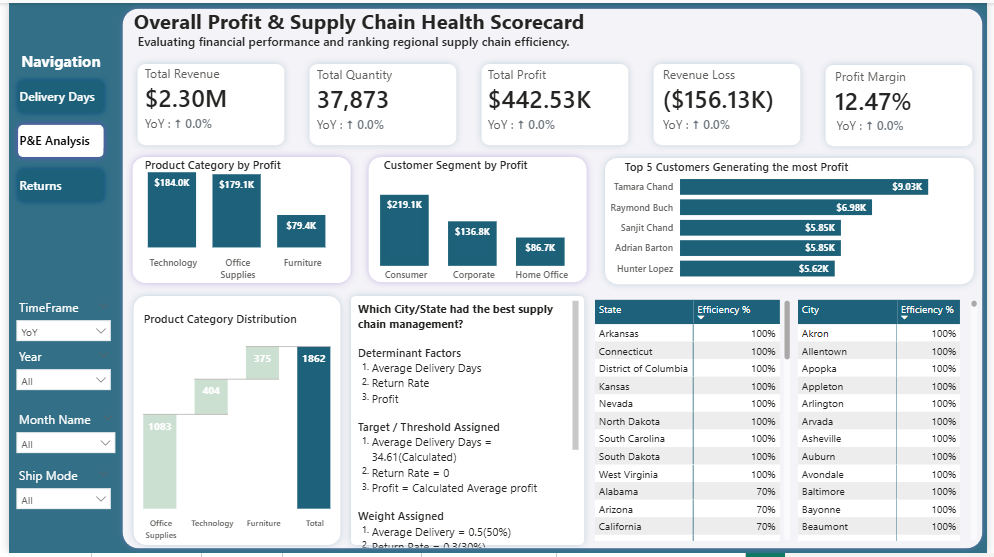

The page's visual inventory and layout, read from the dashboard file:
{"tool":"powerbi","page":{"name":"P&E Analysis","canvas":[1280,720],"ordinal":1},"visuals":[{"type":"shape","box":[142.7,1.3,1137.6,718.7],"z":0},{"type":"shape","box":[149,71,230.3,124.4],"z":0,"group":"g18"},{"type":"shape","box":[374.1,71,230.3,124.4],"z":0,"group":"g13"},{"type":"shape","box":[599.1,71,230.3,124.4],"z":0,"group":"g15"},{"type":"shape","box":[824.2,71,230.3,124.4],"z":0,"group":"g16"},{"type":"shape","box":[1049.2,72.5,230.3,124.4],"z":0,"group":"g17"},{"type":"group","id":"g1","title":"Group 9","box":[135,193,332.4,182.3],"z":0,"group":"g12"},{"type":"group","id":"g2","title":"Group 2","box":[143,193,323.6,183.2],"z":0,"group":"g3"},{"type":"group","id":"g3","title":"Group 6","box":[143,193,324.3,182.3],"z":0,"group":"g1"},{"type":"shape","box":[143,193,323.6,183.2],"z":0,"group":"g2"},{"type":"group","id":"g4","title":"Group 6","box":[451.9,193,323.7,182.1],"z":0,"group":"g10"},{"type":"group","id":"g5","title":"Group 2","box":[451.9,193,323.7,182.1],"z":0,"group":"g4"},{"type":"shape","box":[451.9,193,323.7,182.1],"z":0,"group":"g5"},{"type":"shape","box":[771.1,194.1,500.9,183.3],"z":0,"group":"g14"},{"type":"shape","box":[143.5,374.4,309.1,344.1],"z":0,"group":"g8"},{"type":"shape","box":[439.1,374.4,323.4,344.1],"z":0,"group":"g9"},{"type":"group","id":"g6","title":"Group 13","box":[149,71,1131,150.7],"z":1000},{"type":"group","id":"g7","title":"Group 10","box":[451,193,325.9,182.9],"z":1000,"group":"g12"},{"type":"columnChart","title":"Profit by Product Category","fields":{"Category":["Dim_Products.Category"],"Y":["Dax Measures.Total Profit"]},"box":[135,200,316.9,167],"z":1000,"group":"g1"},{"type":"group","id":"g8","title":"Group 12","box":[130.3,374.4,324.7,344.1],"z":2000},{"type":"group","id":"g9","title":"Group 14","box":[439.1,374.4,323.4,344.1],"z":3000},{"type":"group","id":"g10","title":"Group 1","box":[451.9,193,325,182.9],"z":3500,"group":"g7"},{"type":"group","id":"g11","title":"Group 16","box":[135,193,1137.1,184.4],"z":4000},{"type":"columnChart","fields":{"Category":["Dim_Customers.Segment"],"Y":["Dax Measures.Total Profit"]},"box":[451,203,316.6,166],"z":4000,"group":"g7"},{"type":"slicer","fields":{"Values":["TimeFrame.TimeFrame"]},"box":[0,387.4,138.2,64.8],"z":5000},{"type":"barChart","fields":{"Category":["Dim_Customers.Customer Name"],"Y":["Dax Measures.Total Profit"]},"box":[786,207,452.8,162.4],"z":6000,"group":"g14"},{"type":"pivotTable","fields":{"Rows":["Dim_Locations.City"],"Values":["Dax Measures.Total Health Score"]},"box":[1032.3,384,235.4,324.8],"z":6000},{"type":"pivotTable","fields":{"Rows":["Dim_Locations.State"],"Values":["Dax Measures.Total Health Score"]},"box":[766.6,384,256,324.8],"z":7000},{"type":"pageNavigator","title":"Navigation","box":[4.3,61.9,128.2,207.4],"z":8000},{"type":"waterfallChart","title":"Product Distribution by Category","fields":{"Category":["Dim_Products.Category"],"Y":["Dax Measures.Total Product"]},"box":[130.3,415,324.7,296],"z":8000,"group":"g8"},{"type":"textbox","box":[172.8,196,207.4,34.6],"z":9000},{"type":"textbox","box":[452,384.5,299.1,332.5],"z":9000,"group":"g9"},{"type":"textbox","box":[357.1,24.5,335.5,38.9],"z":10000},{"type":"group","id":"g12","title":"Group 11","box":[135,193,641.9,182.9],"z":11000,"group":"g11"},{"type":"textbox","box":[485.3,196,217.4,38.9],"z":11000},{"type":"group","id":"g13","title":"Group 4","box":[374.1,71,230.3,149.3],"z":12000,"group":"g6"},{"type":"textbox","box":[800.6,199,335.5,38.9],"z":12000},{"type":"group","id":"g14","title":"Group 15","box":[771.1,194.1,500.9,183.3],"z":12002,"group":"g11"},{"type":"group","id":"g15","title":"Group 5","box":[599.1,71,230.3,149.3],"z":13000,"group":"g6"},{"type":"textbox","box":[171.4,397.4,244.8,38.9],"z":13000},{"type":"group","id":"g16","title":"Group 7","box":[824.2,71,230.3,149.3],"z":14000,"group":"g6"},{"type":"slicer","fields":{"Values":["Calendar Table.Year"]},"box":[0,452.2,138.2,64.8],"z":14000},{"type":"group","id":"g17","title":"Group 8","box":[1049.2,71,230.3,150.7],"z":15000,"group":"g6"},{"type":"slicer","fields":{"Values":["Calendar Table.Month Name"]},"box":[0,534.1,144,65.5],"z":15000},{"type":"cardVisual","fields":{"Data":["Dax Measures.Profit Margin"]},"box":[1063.3,71,216.2,150.7],"z":15001,"group":"g17"},{"type":"cardVisual","fields":{"Data":["Dax Measures.Total Revenue"]},"box":[172.5,75.4,197.4,143.4],"z":16000,"group":"g18"},{"type":"cardVisual","fields":{"Data":["Dax Measures.Total Quantity"]},"box":[398.2,76.9,197.4,143.4],"z":16000,"group":"g13"},{"type":"cardVisual","fields":{"Data":["Dax Measures.Total Profit"]},"box":[621,76.9,197.4,143.4],"z":16000,"group":"g15"},{"type":"cardVisual","fields":{"Data":["Dax Measures.Revenue Loss"]},"box":[850.8,76.9,197.4,143.4],"z":16000,"group":"g16"},{"type":"slicer","fields":{"Values":["Facts_Table.Ship Mode"]},"box":[0,607.7,138.2,64.8],"z":16000},{"type":"group","id":"g18","title":"Group 3","box":[149,71,230.3,147.8],"z":16001,"group":"g6"},{"type":"textbox","box":[159,0,651,53.7],"z":17000},{"type":"textbox","box":[164,34,651,37.2],"z":18000}]}

Visuals, with their boxes on the page's 1280x720 design canvas (x1, y1, x2, y2). These are canvas units, not pixel positions in the 994x557 screenshot, which may show the page scaled, cropped or inside an application window:
shape: box(143, 1, 1280, 720)
shape: box(149, 71, 379, 195)
shape: box(374, 71, 604, 195)
shape: box(599, 71, 829, 195)
shape: box(824, 71, 1054, 195)
shape: box(1049, 72, 1280, 197)
"Group 9" group: box(135, 193, 467, 375)
"Group 2" group: box(143, 193, 467, 376)
"Group 6" group: box(143, 193, 467, 375)
shape: box(143, 193, 467, 376)
"Group 6" group: box(452, 193, 776, 375)
"Group 2" group: box(452, 193, 776, 375)
shape: box(452, 193, 776, 375)
shape: box(771, 194, 1272, 377)
shape: box(144, 374, 453, 718)
shape: box(439, 374, 762, 718)
"Group 13" group: box(149, 71, 1280, 222)
"Group 10" group: box(451, 193, 777, 376)
"Profit by Product Category" columnChart: box(135, 200, 452, 367)
"Group 12" group: box(130, 374, 455, 718)
"Group 14" group: box(439, 374, 762, 718)
"Group 1" group: box(452, 193, 777, 376)
"Group 16" group: box(135, 193, 1272, 377)
columnChart - Dim_Customers.Segment x Dax Measures.Total Profit: box(451, 203, 768, 369)
slicer - TimeFrame.TimeFrame: box(0, 387, 138, 452)
barChart - Dim_Customers.Customer Name x Dax Measures.Total Profit: box(786, 207, 1239, 369)
pivotTable - Dim_Locations.City x Dax Measures.Total Health Score: box(1032, 384, 1268, 709)
pivotTable - Dim_Locations.State x Dax Measures.Total Health Score: box(767, 384, 1023, 709)
"Navigation" pageNavigator: box(4, 62, 132, 269)
"Product Distribution by Category" waterfallChart: box(130, 415, 455, 711)
textbox: box(173, 196, 380, 231)
textbox: box(452, 384, 751, 717)
textbox: box(357, 24, 693, 63)
"Group 11" group: box(135, 193, 777, 376)
textbox: box(485, 196, 703, 235)
"Group 4" group: box(374, 71, 604, 220)
textbox: box(801, 199, 1136, 238)
"Group 15" group: box(771, 194, 1272, 377)
"Group 5" group: box(599, 71, 829, 220)
textbox: box(171, 397, 416, 436)
"Group 7" group: box(824, 71, 1054, 220)
slicer - Calendar Table.Year: box(0, 452, 138, 517)
"Group 8" group: box(1049, 71, 1280, 222)
slicer - Calendar Table.Month Name: box(0, 534, 144, 600)
cardVisual - Dax Measures.Profit Margin: box(1063, 71, 1280, 222)
cardVisual - Dax Measures.Total Revenue: box(172, 75, 370, 219)
cardVisual - Dax Measures.Total Quantity: box(398, 77, 596, 220)
cardVisual - Dax Measures.Total Profit: box(621, 77, 818, 220)
cardVisual - Dax Measures.Revenue Loss: box(851, 77, 1048, 220)
slicer - Facts_Table.Ship Mode: box(0, 608, 138, 672)
"Group 3" group: box(149, 71, 379, 219)
textbox: box(159, 0, 810, 54)
textbox: box(164, 34, 815, 71)
